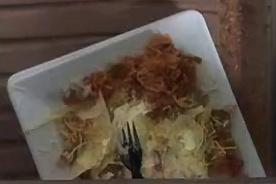taco_mix: (8, 29, 240, 178)
